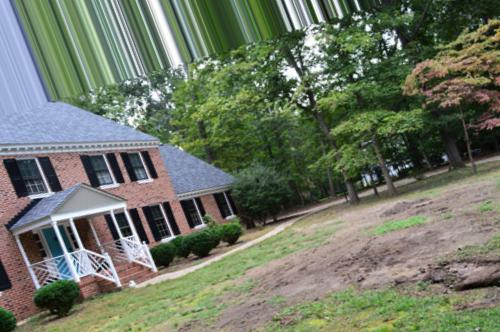patch: (353, 215, 475, 251), (302, 252, 420, 276), (239, 276, 261, 332), (435, 194, 469, 214)
